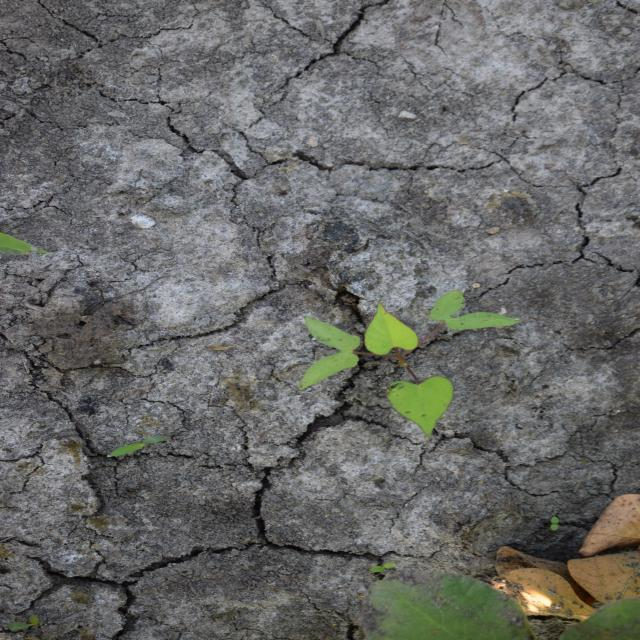MorningGlory: (296, 289, 525, 439)
